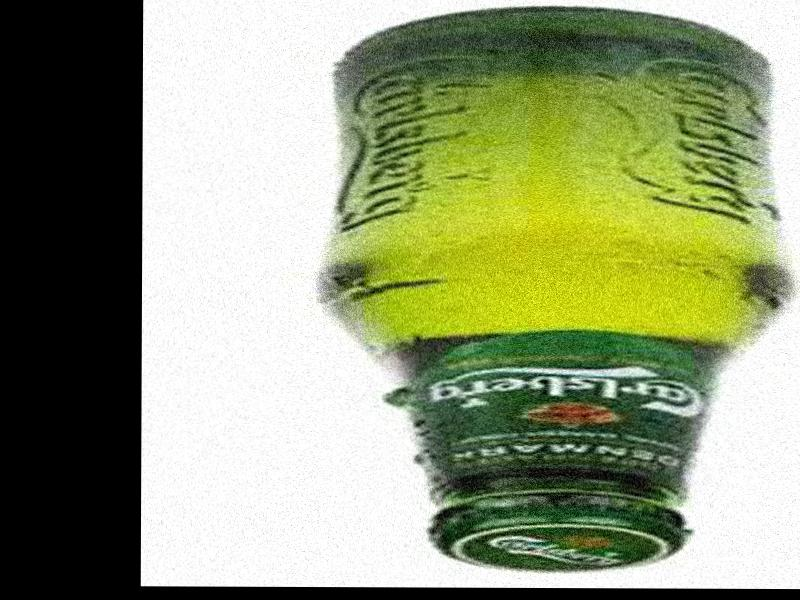Beer: (320, 3, 782, 571)
